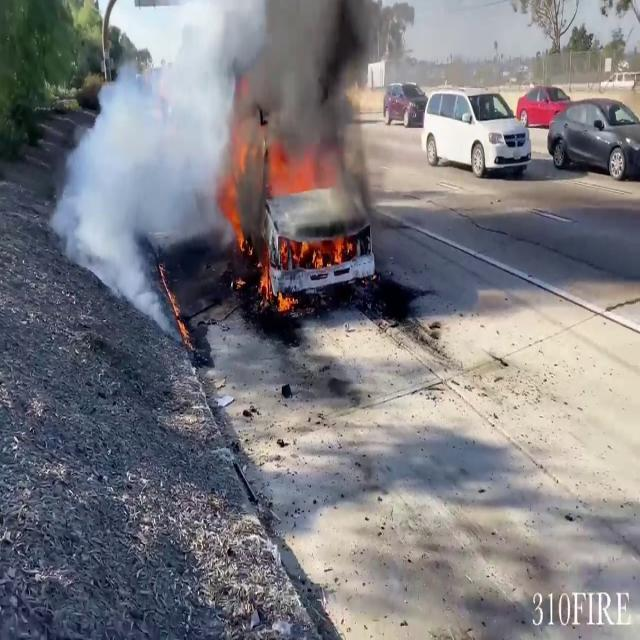Smoke: (49, 0, 390, 320)
